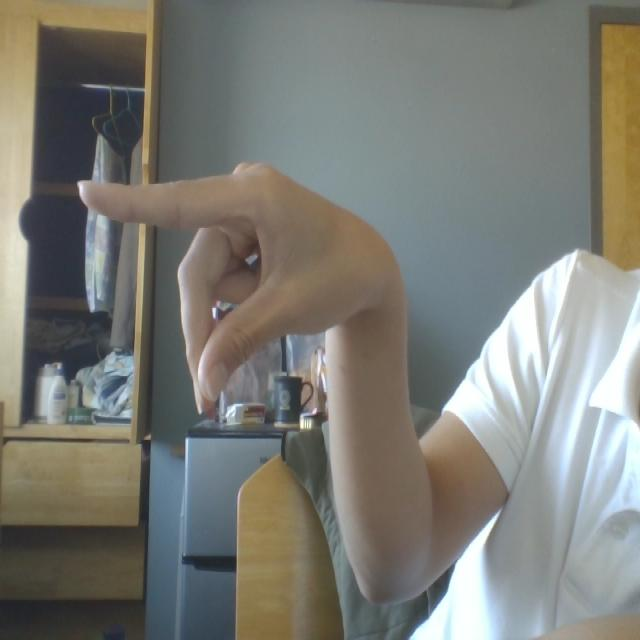P: (42, 98, 427, 429)
